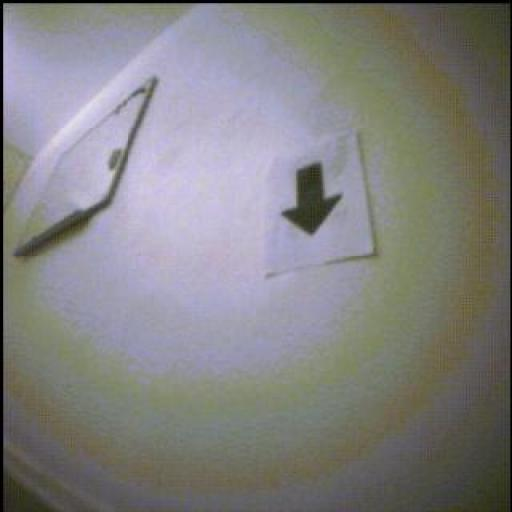arrow: (283, 164, 342, 236)
